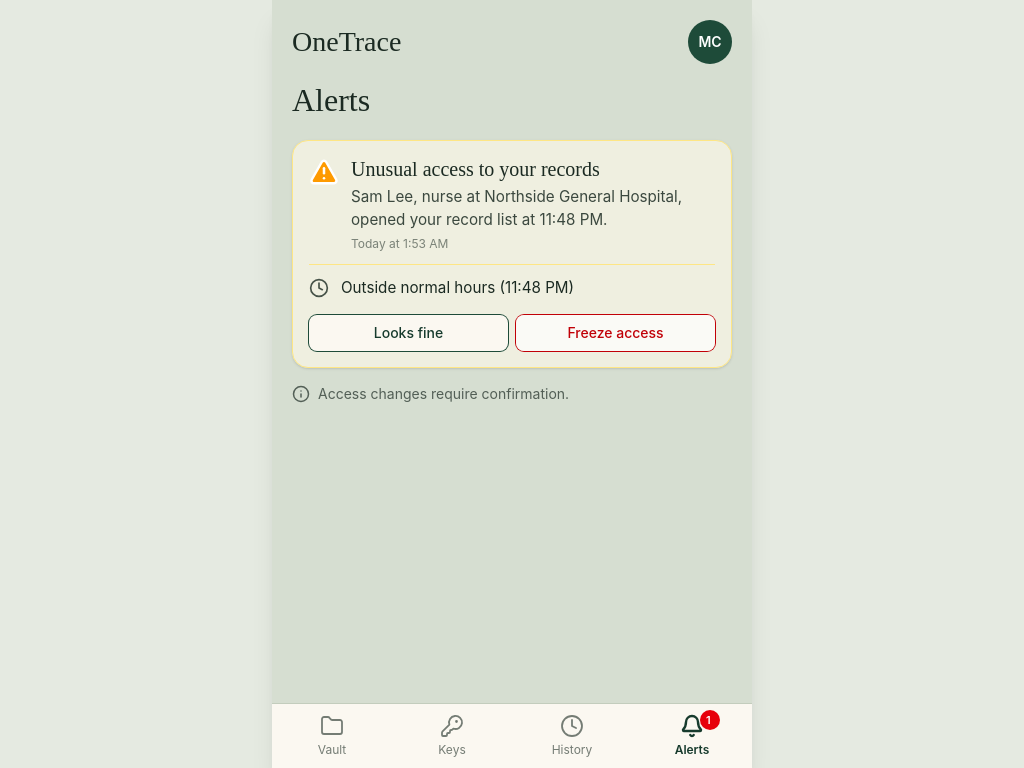
Test: Patient app (mockup page 2) › Alerts: the open alert with its reasons and decisions; freezing asks for confirmation
Check: the heading "Alerts" is shown, box top-left (292, 80), bottom-right (370, 120)
Check: the heading "Unusual access to your records" is shown, box top-left (351, 158), bottom-right (600, 180)
Click the button "Freeze access" at (616, 333), box top-left (516, 315), bottom-right (715, 351)
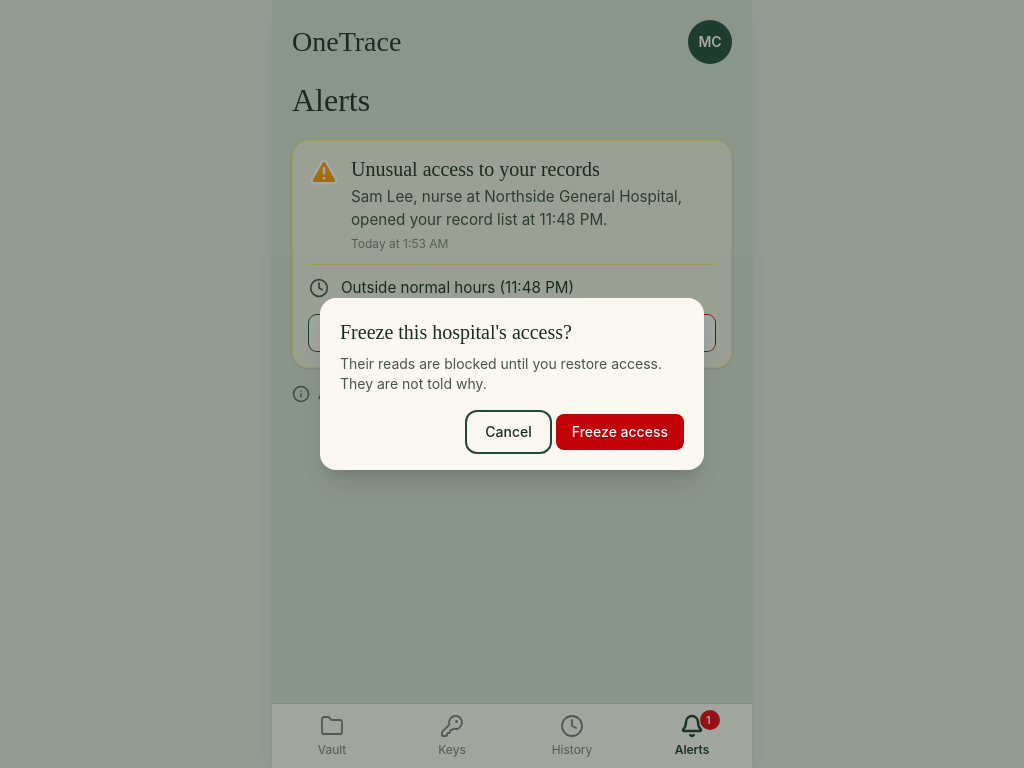
Check: the dialog shows "Freeze this hospital's access?", box top-left (340, 321), bottom-right (572, 343)
